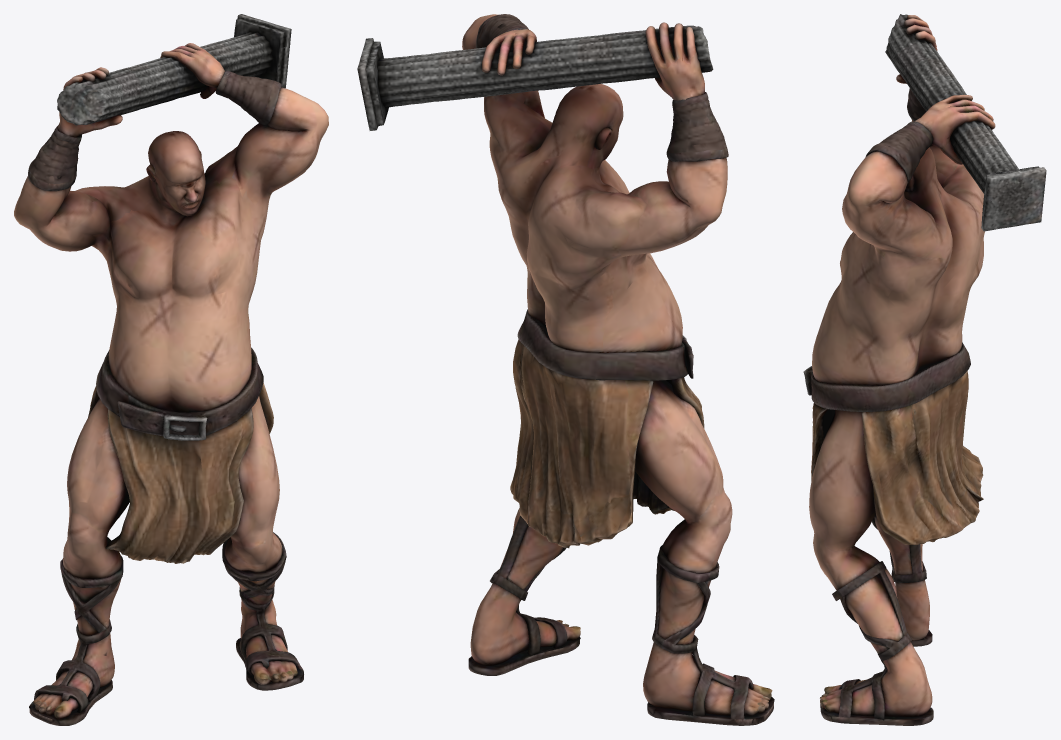
File: MZ4250 - Cyclops Sentry_Pillar_2025.glb
3 views of the same model, side by side, from view 1: azimuth 30°, elevation 25°; view 2: azimuth 150°, elevation 25°; view 3: azimuth 270°, elevation 25° (orthographic). The views are drawn at different scales.
Parts seen in each view (by area): view 1: Cyclops Sentry.001; view 2: Cyclops Sentry.001; view 3: Cyclops Sentry.001.
Part boxes in pixels (x1,y1,x2,y2): Cyclops Sentry.001: [14, 14, 328, 725]; Cyclops Sentry.001: [357, 14, 774, 725]; Cyclops Sentry.001: [803, 14, 1046, 725].
Bounding box in the file's own units: 149 × 285 × 102.
Materials: 1 (1 with a texture image).
